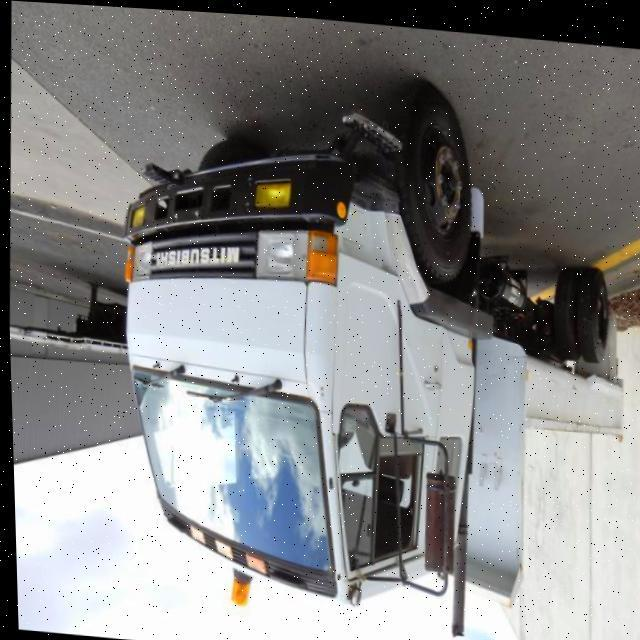truck: (105, 57, 635, 632)
